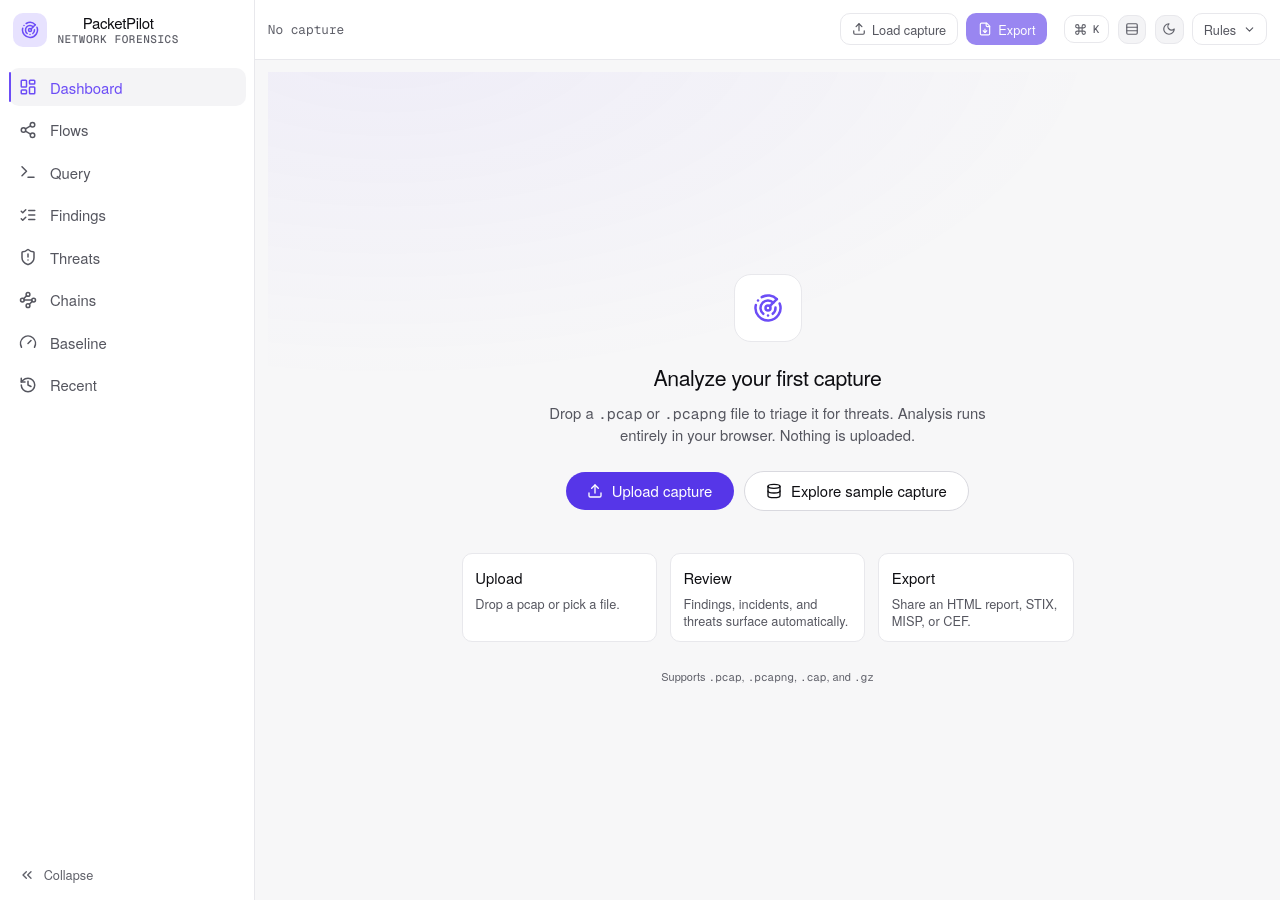
Test: App routing › Threats view: clicking the incident host opens its flyout on the dashboard
Click the button "Explore sample capture" at (857, 491), box top-left (744, 471), bottom-right (969, 511)
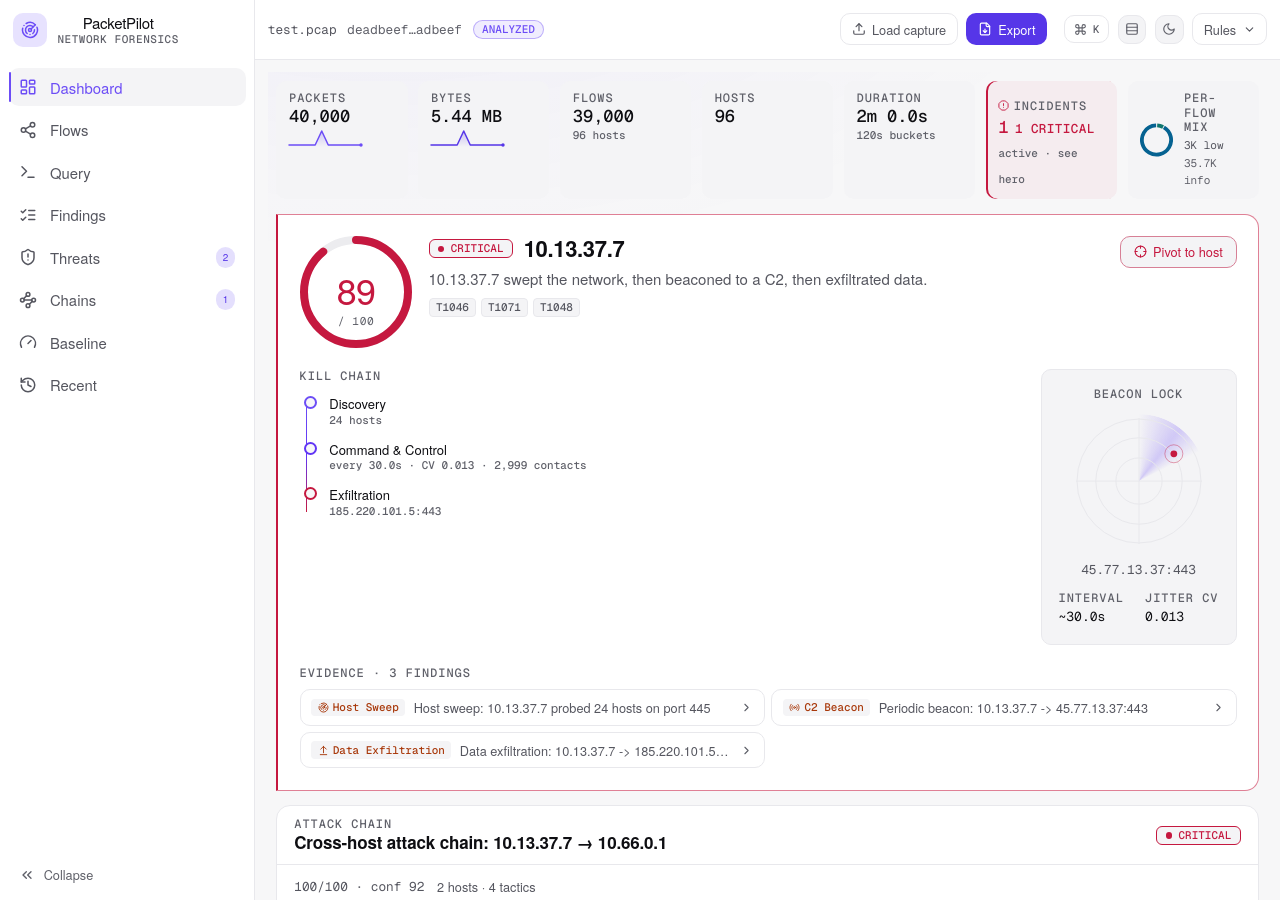
Click the button "Threats 2" at (127, 257), box top-left (8, 238), bottom-right (246, 276)
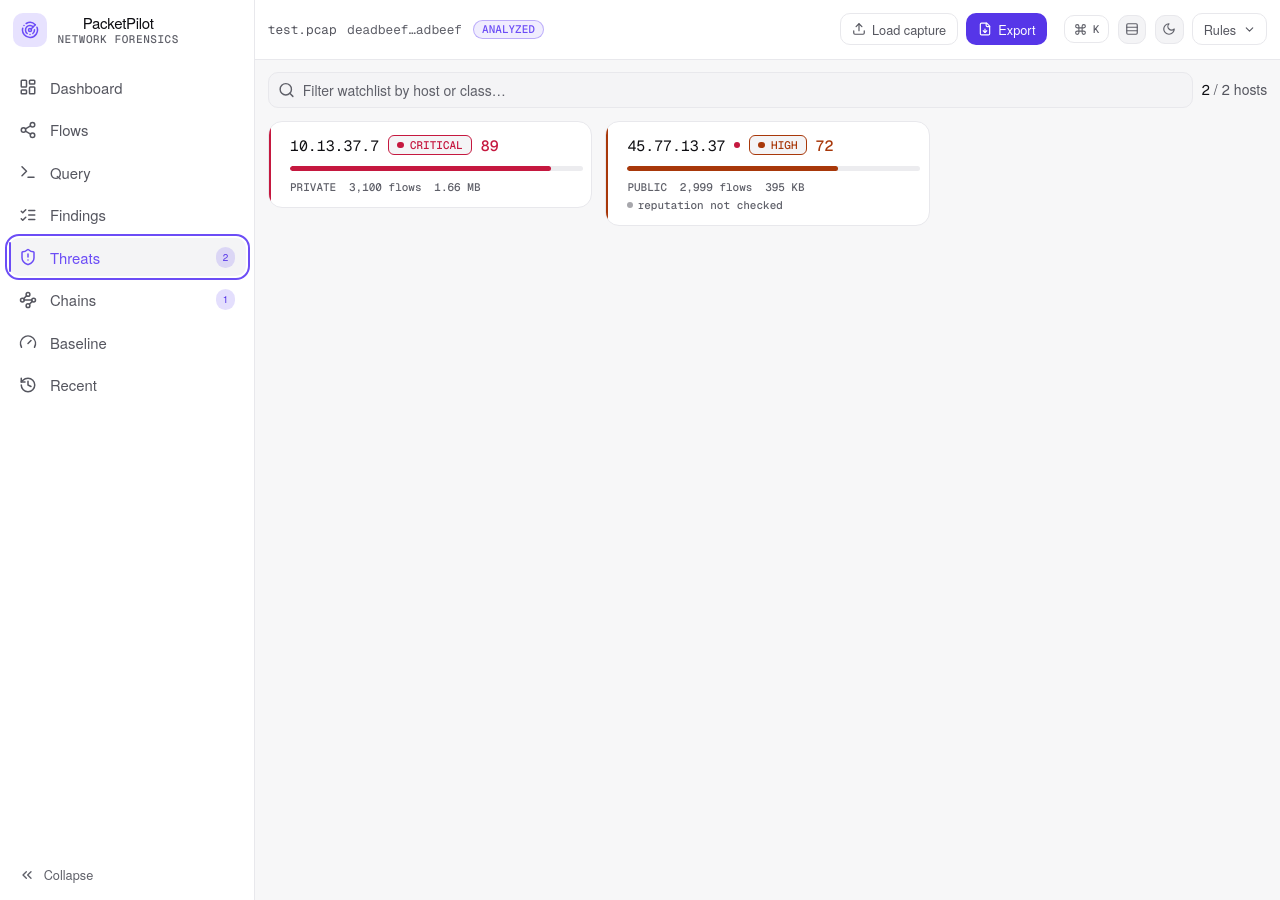
Click the button "10.13.37.7 Critical 89 private 3,100 flows 1.66 MB" at (430, 164), box top-left (268, 121), bottom-right (592, 208)
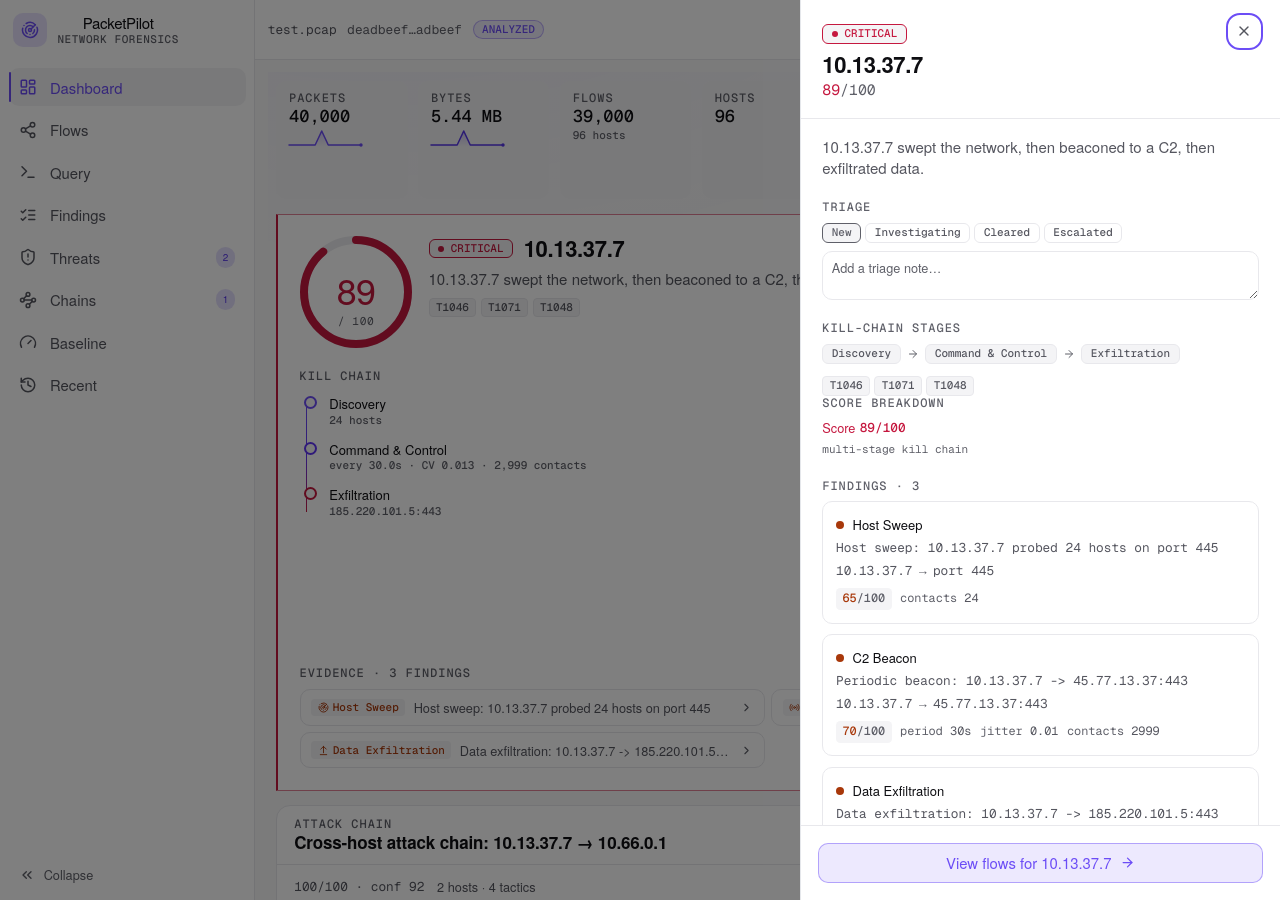
Expected: the dialog named "Incident detail for 10.13.37.7" is shown
